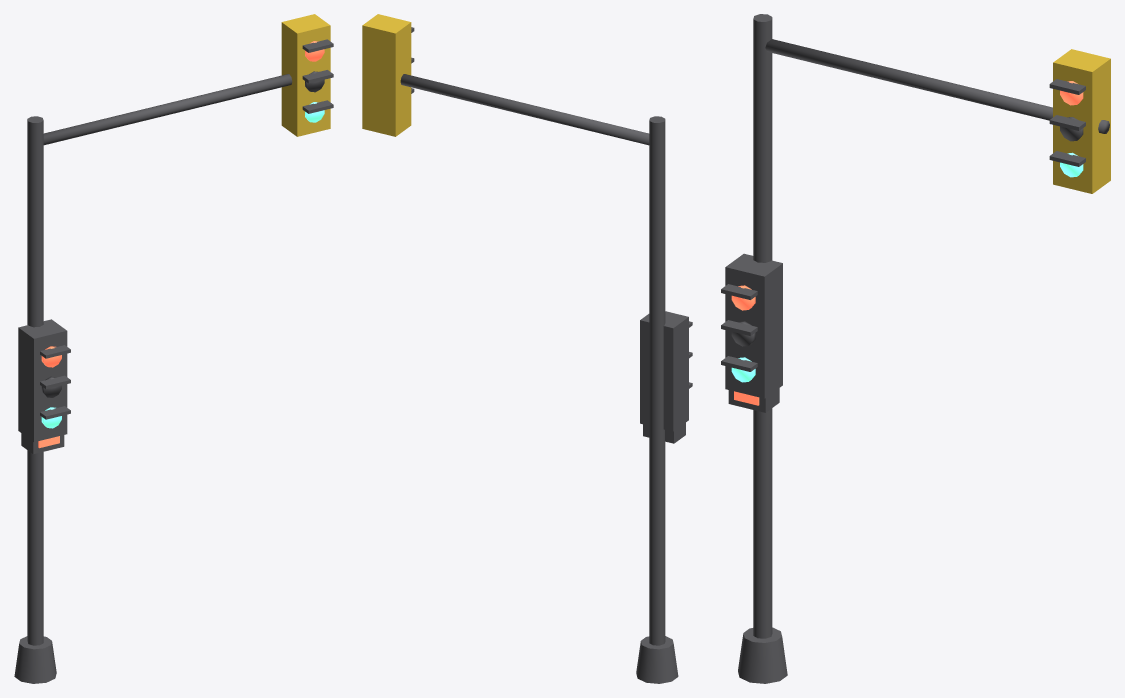
The model's file is TrafficLight.glb.
3 renders of one model, left to right at view 1: azimuth 30°, elevation 25°; view 2: azimuth 150°, elevation 25°; view 3: azimuth 330°, elevation 25°, orthographic. The views are drawn at different scales.
Visible parts, largest first — view 1: TrafficLight_cyl.001, TrafficLight_cube, TrafficLight_cube.004, TrafficLight_cyl.002, TrafficLight_cyl; view 2: TrafficLight_cyl.001, TrafficLight_cube.004, TrafficLight_cube, TrafficLight_cyl.002, TrafficLight_cyl; view 3: TrafficLight_cyl.001, TrafficLight_cube, TrafficLight_cube.004, TrafficLight_cyl.002, TrafficLight_cyl.
Boxes of the visible parts, x1,y1,x2,y2 form: TrafficLight_cyl.001: [27, 116, 43, 645]; TrafficLight_cube: [18, 319, 67, 442]; TrafficLight_cube.004: [281, 14, 330, 136]; TrafficLight_cyl.002: [43, 74, 292, 145]; TrafficLight_cyl: [14, 636, 56, 683]; TrafficLight_cyl.001: [649, 116, 665, 645]; TrafficLight_cube.004: [362, 14, 411, 136]; TrafficLight_cube: [640, 311, 688, 431]; TrafficLight_cyl.002: [400, 74, 649, 145]; TrafficLight_cyl: [636, 636, 678, 683]; TrafficLight_cyl.001: [753, 14, 772, 638]; TrafficLight_cube: [725, 253, 782, 398]; TrafficLight_cube.004: [1053, 49, 1110, 193]; TrafficLight_cyl.002: [765, 39, 1109, 133]; TrafficLight_cyl: [738, 627, 787, 683].
Size of the model in its own units: 2.97 by 5.38 by 0.56.
